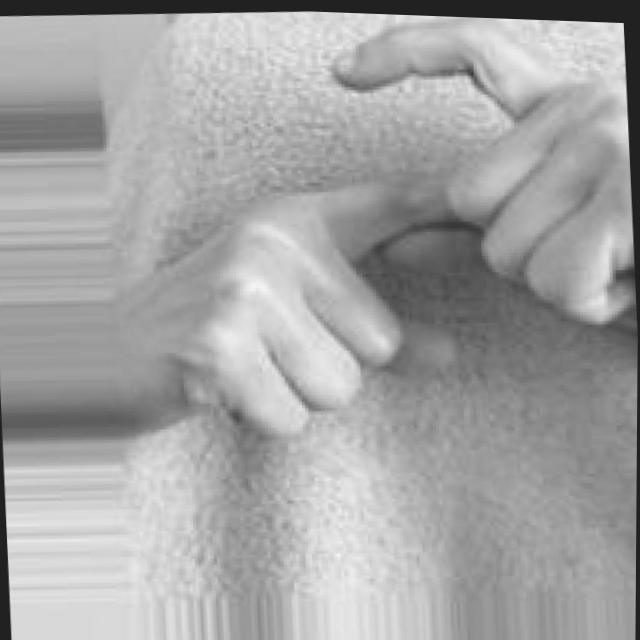S: (135, 5, 640, 463)
